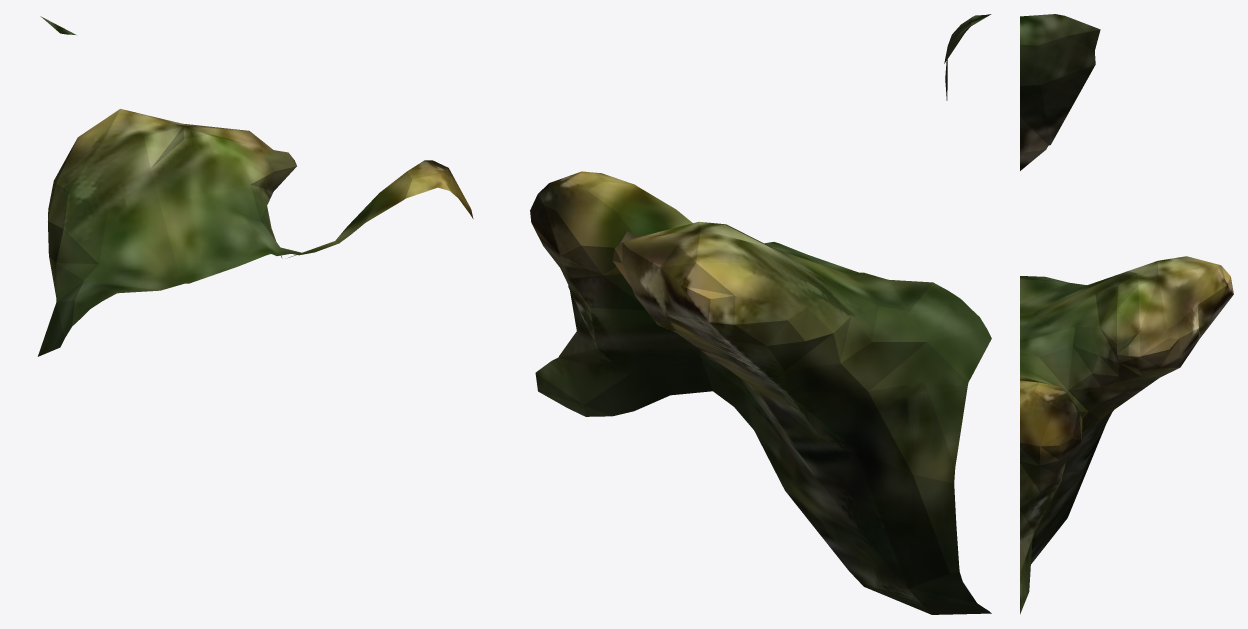
3 renders of one model, left to right at view 1: azimuth 30°, elevation 25°; view 2: azimuth 150°, elevation 25°; view 3: azimuth 270°, elevation 25°, orthographic. The views are drawn at different scales.
Bounding box in the file's own units: 0.4781 × 0.6191 × 0.2301.
Materials: 1 (1 with a texture image).
